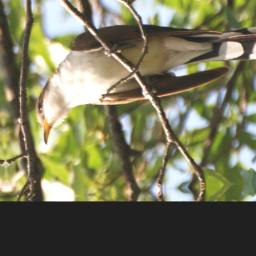Cuckoo: (30, 8, 256, 147)
